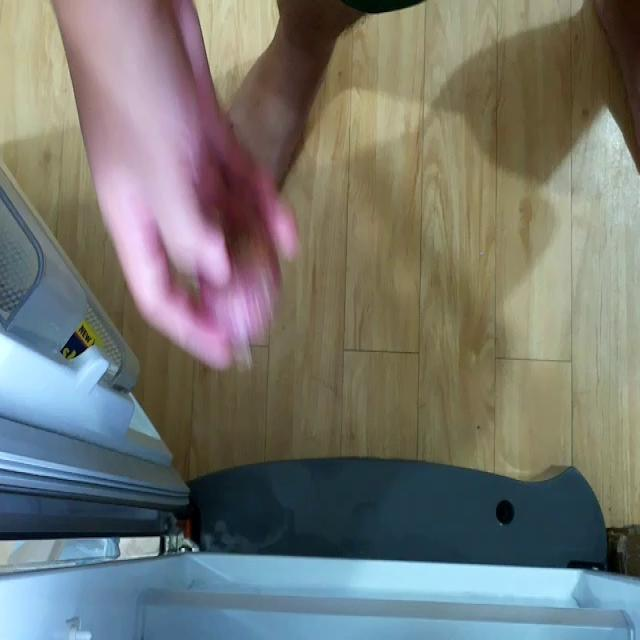onion: (196, 218, 278, 361)
